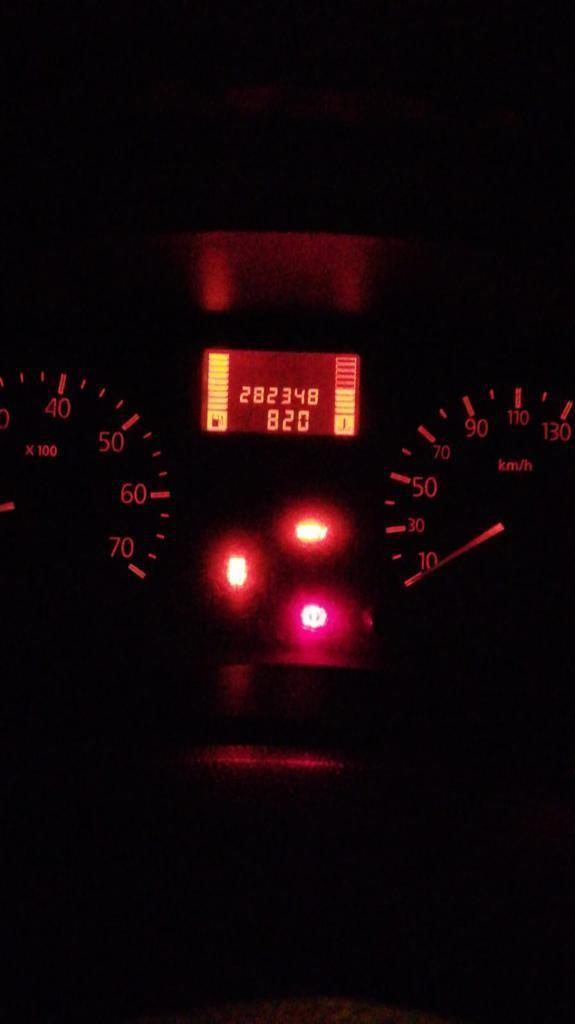0: (296, 408, 309, 432)
2: (281, 408, 294, 431), (239, 385, 251, 403), (266, 386, 277, 404)
3: (281, 387, 291, 405)
4: (293, 387, 305, 405)
8: (266, 408, 278, 430), (306, 387, 318, 405), (252, 386, 264, 404)
odometer: (196, 345, 364, 438)
